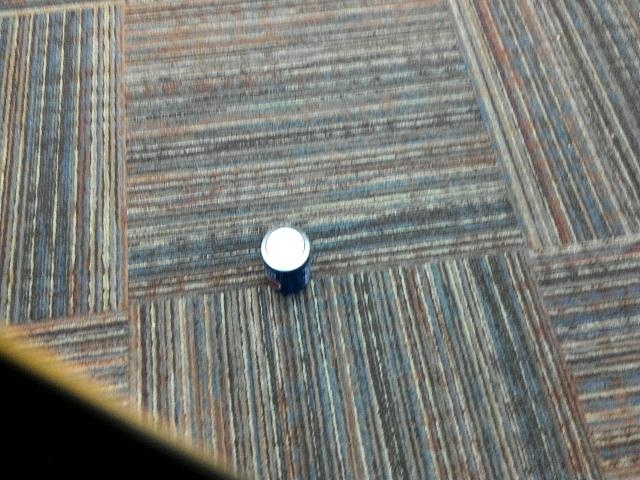can: (254, 225, 325, 301)
